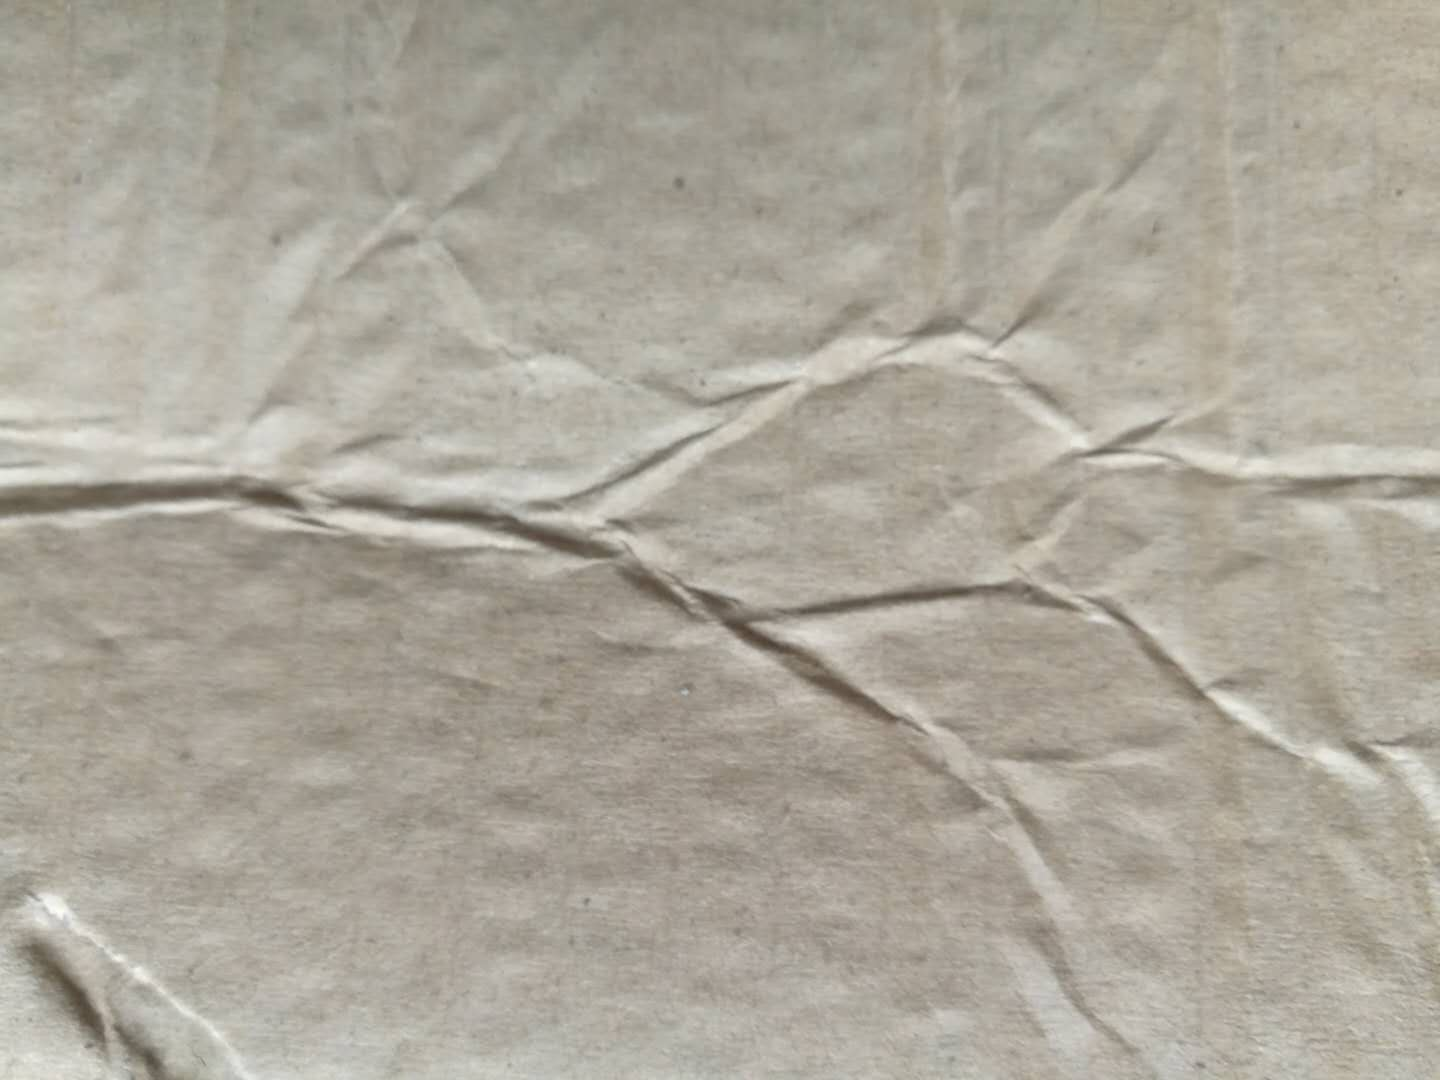defect: (1, 252, 1435, 1079), (5, 844, 268, 1080)
